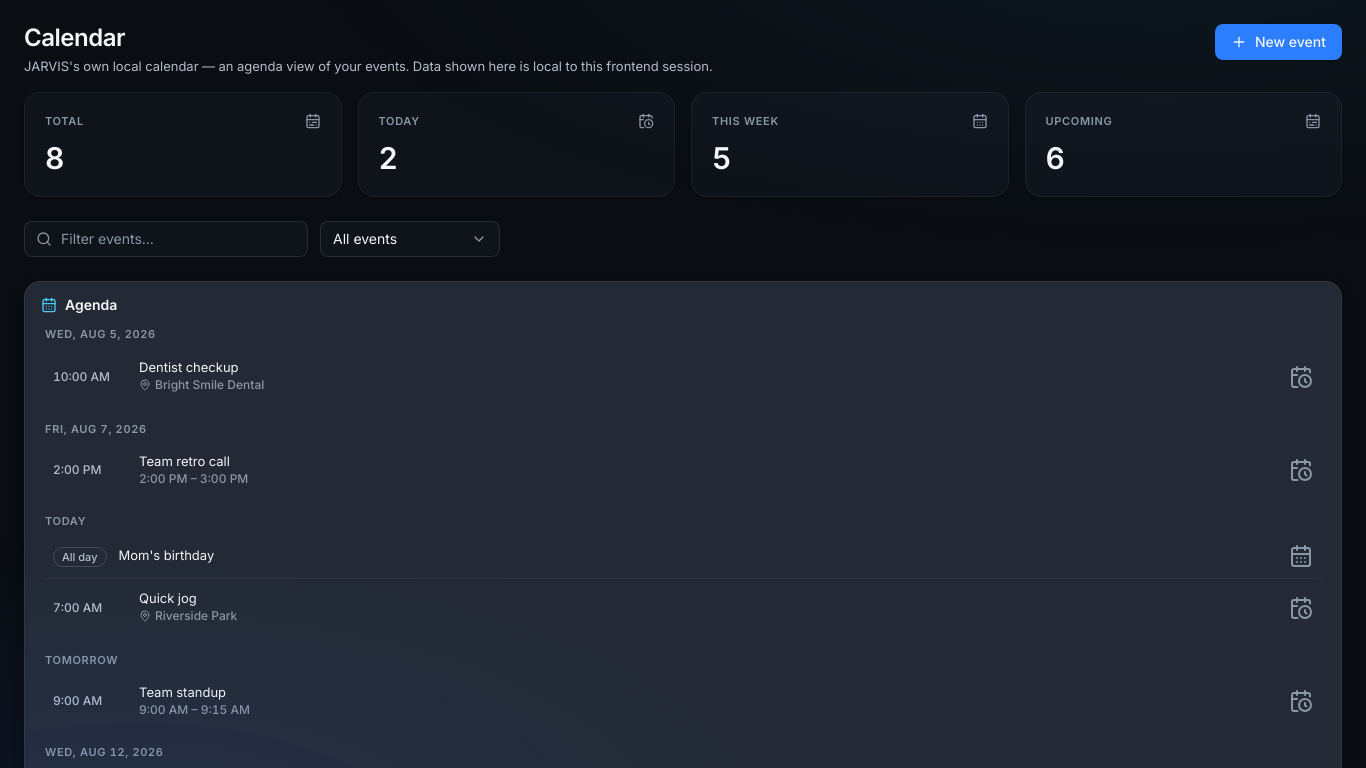
CalendarPage › filters events to only today via the time filter
Check: the button with test id "calendar-event-row-cal-1" is shown, box x1=53 y1=359 x2=1313 y2=392
What coordinates should you click on to do the following:
click the dropdown with test id "calendar-time-filter"
I would click on:
 (410, 239)
Its box is x1=320 y1=221 x2=500 y2=257.
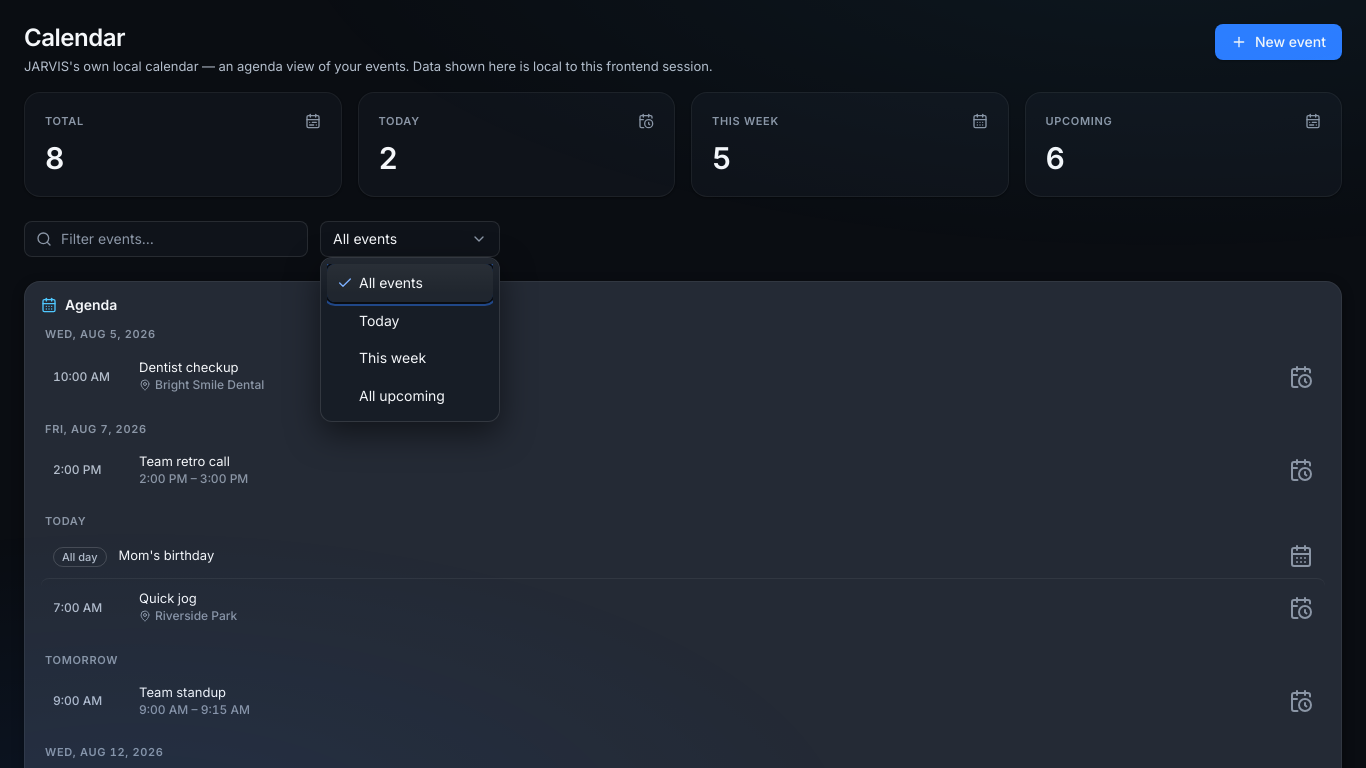
What coordinates should you click on to do the following:
click the option "Today"
I would click on:
 (379, 320)
Its box is x1=359 y1=312 x2=399 y2=329.
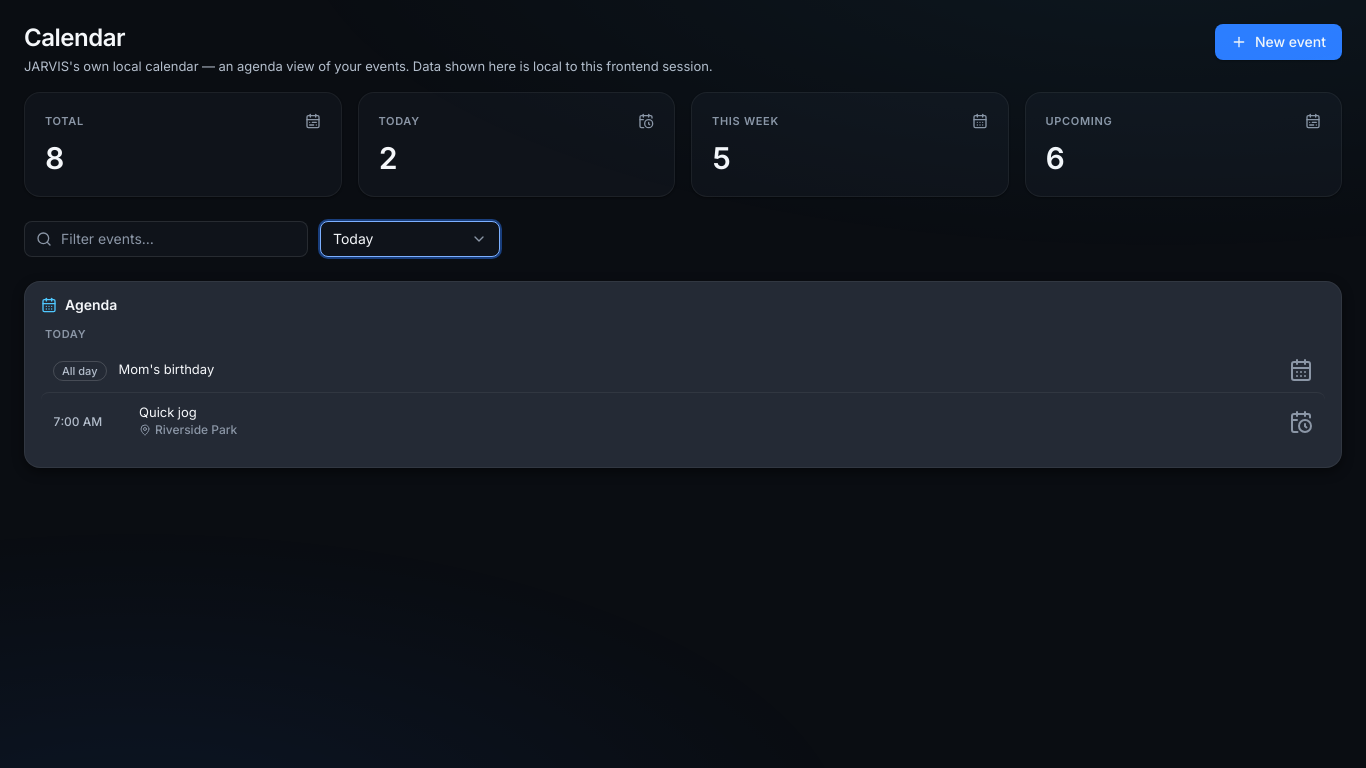
Check: the button with test id "calendar-event-row-cal-3" is shown, box x1=41 y1=392 x2=1325 y2=451
Check: the button with test id "calendar-event-row-cal-1" is gone
Check: the button with test id "calendar-event-row-cal-5" is gone
Note: Reset back to all events for subsequent tests in this shared-dataset file.
What coordinates should you click on to do the following:
click the dropdown with test id "calendar-time-filter"
I would click on:
 (410, 239)
Its box is x1=320 y1=221 x2=500 y2=257.
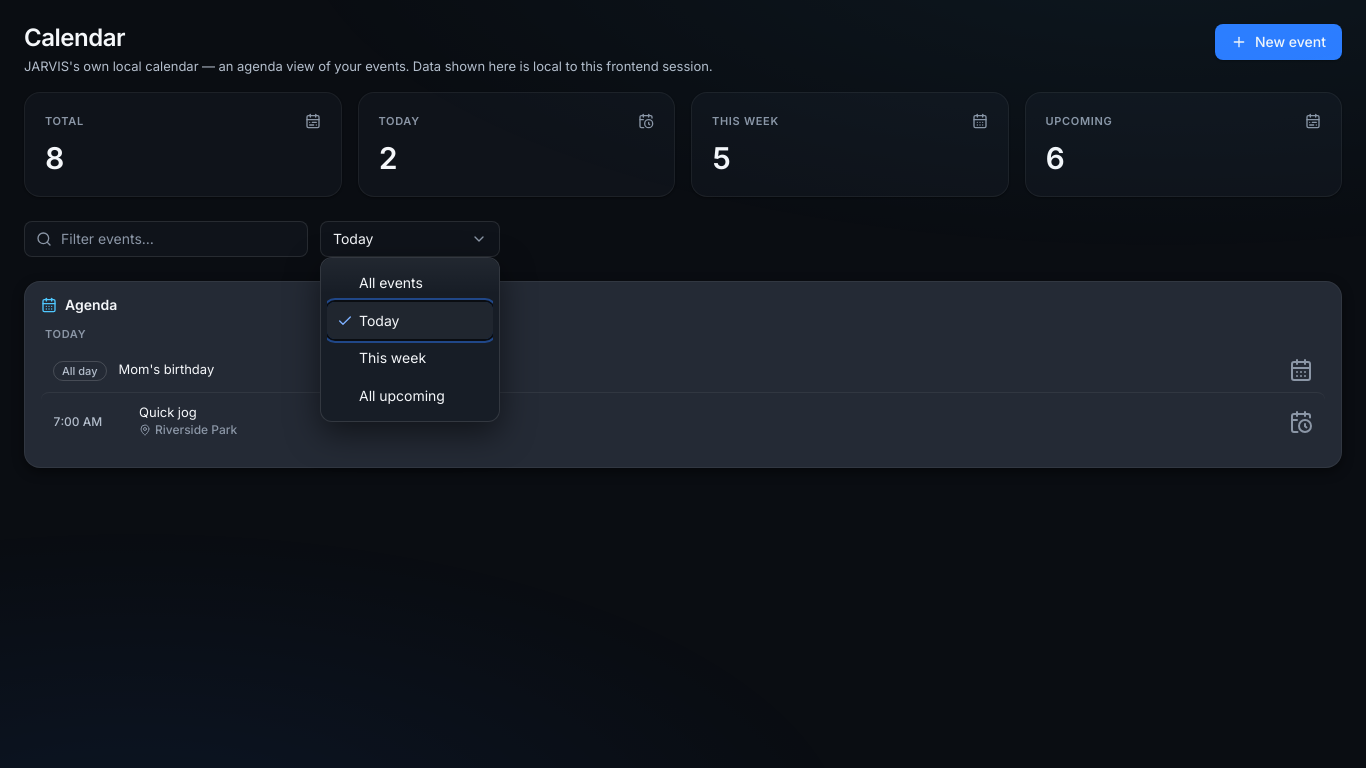
What coordinates should you click on to do the following:
click the option "All events"
I would click on:
 (391, 282)
Its box is x1=359 y1=274 x2=423 y2=291.
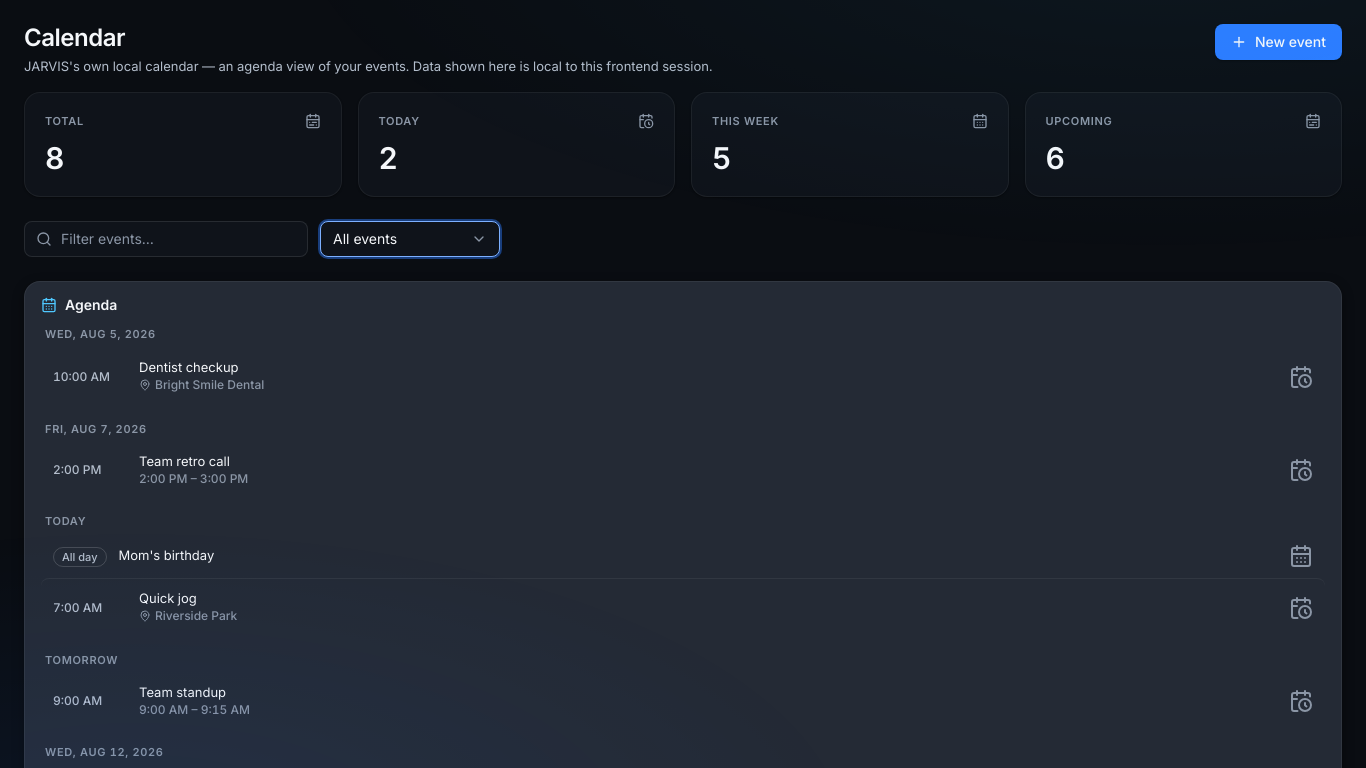
Check: the button with test id "calendar-event-row-cal-1" is shown, box x1=53 y1=359 x2=1313 y2=392
